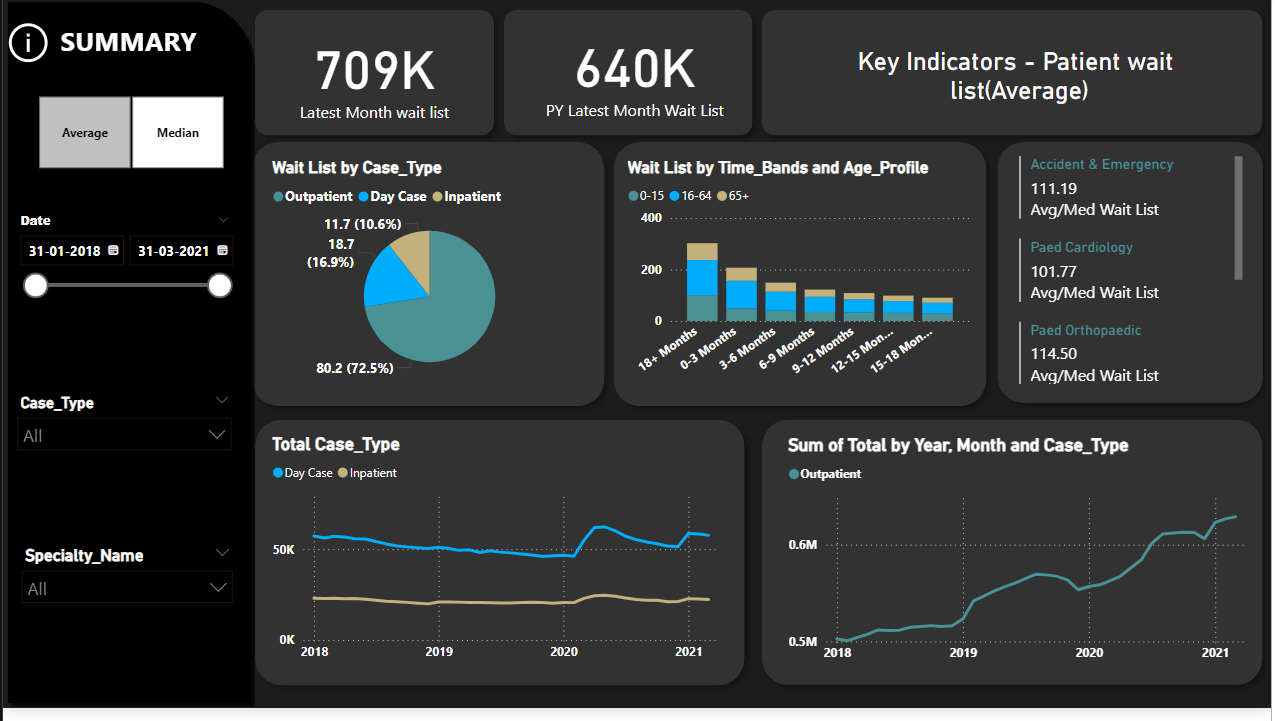

Layout of this report page (visuals, bound fields, positions):
{"tool":"powerbi","page":{"name":"Summary","canvas":[1280,720],"ordinal":0},"visuals":[{"type":"group","id":"g1","title":"Group 1","box":[245,6.4,259.3,144.7],"z":0},{"type":"shape","box":[757.1,419.9,523.3,286.3],"z":0,"group":"g14"},{"type":"group","id":"g2","title":"Group 2","box":[496.3,6.4,268.8,144.7],"z":1000},{"type":"shape","box":[994.1,140,286.3,281.5],"z":1000,"group":"g12"},{"type":"group","id":"g3","title":"Group 3","box":[756.7,6.4,523.3,144.7],"z":2000},{"type":"shape","box":[607.6,140,394.5,284.7],"z":2000,"group":"g11"},{"type":"group","id":"g4","title":"Group 4","box":[241.8,140,373.8,284.7],"z":3000},{"type":"shape","box":[245,419.9,512.2,286.3],"z":3000,"group":"g13"},{"type":"shape","box":[241.8,140,373.8,284.7],"z":4000,"group":"g10"},{"type":"group","id":"g5","title":"Group 5","box":[607.6,140,394.5,284.7],"z":4000},{"type":"shape","box":[756.7,6.4,523.3,144.7],"z":5000,"group":"g3"},{"type":"group","id":"g6","title":"Group 6","box":[994.1,140,286.3,281.5],"z":5000},{"type":"shape","box":[496.3,6.4,268.8,144.7],"z":6000,"group":"g2"},{"type":"group","id":"g7","title":"Group 7","box":[245,419.9,512.2,286.3],"z":6000},{"type":"shape","box":[245,6.4,259.3,144.7],"z":7000,"group":"g1"},{"type":"group","id":"g8","title":"Group 8","box":[757.1,419.9,523.3,286.3],"z":7000},{"type":"shape","box":[0,1.6,255.9,718.4],"z":7500,"group":"g9"},{"type":"group","id":"g9","title":"Group 9","box":[0,1.6,255.9,718.4],"z":8000},{"type":"actionButton","box":[0,22.3,52.5,50.9],"z":9000},{"type":"card","fields":{"Values":["All_Data.Latest Month wait list"]},"box":[267.3,23.9,213.1,109.8],"z":9000,"group":"g1"},{"type":"textbox","box":[52.5,22.3,162.2,57.3],"z":10000},{"type":"card","fields":{"Values":["All_Data.PY Latest Month Wait List"]},"box":[529.7,22.3,214.7,108.2],"z":10000,"group":"g2"},{"type":"slicer","fields":{"Values":["All_Data.Case_Type"]},"box":[5,396.8,235.9,94.4],"z":11000,"group":"g9"},{"type":"card","fields":{"Values":["All_Data.No data left"]},"box":[267.2,429.5,464.5,264],"z":11000},{"type":"slicer","fields":{"Values":["All_Data.Specialty_Name"]},"box":[8.4,550.4,232.5,102.4],"z":12000,"group":"g9"},{"type":"slicer","fields":{"Values":["All_Data.Archive_Date"]},"box":[4.8,213.8,235.4,124.1],"z":13000,"group":"g9"},{"type":"slicer","fields":{"Values":["Calculation Method.Calc Method"]},"box":[10,96,235.9,86.4],"z":14000,"group":"g9"},{"type":"pieChart","title":" Wait List by Case_Type","fields":{"Category":["All_Data.Case_Type"],"Y":["All_Data.Avg/Med Wait List"]},"box":[265.7,163.9,327.7,232.2],"z":15000,"group":"g10"},{"type":"columnChart","title":"Wait List by Time_Bands and Age_Profile","fields":{"Category":["All_Data.Time_Bands"],"Y":["All_Data.Avg/Med Wait List"],"Series":["All_Data.Age_Profile"]},"box":[625.1,163.9,354.7,232.2],"z":16000,"group":"g11"},{"type":"multiRowCard","fields":{"Values":["All_Data.Specialty_Name","All_Data.Avg/Med Wait List"]},"box":[1019.5,157.6,235.4,239.9],"z":17000,"group":"g12"},{"type":"lineChart","title":" Total Case_Type","fields":{"Category":["All_Data.Archive_Date.Variation.Date Hierarchy.Year","All_Data.Archive_Date.Variation.Date Hierarchy.Month"],"Y":["Sum(All_Data.Total)"],"Series":["All_Data.Case_Type"]},"box":[265.7,442.2,464.5,238.6],"z":18000,"group":"g13"},{"type":"lineChart","fields":{"Category":["All_Data.Archive_Date.Variation.Date Hierarchy.Year","All_Data.Archive_Date.Variation.Date Hierarchy.Month"],"Y":["Sum(All_Data.Total)"],"Series":["All_Data.Case_Type"]},"box":[787.3,443.8,475.6,238.6],"z":19000,"group":"g14"},{"type":"card","fields":{"Values":["All_Data.Dynamic Title"]},"box":[786.9,25.5,475.6,108.2],"z":21000,"group":"g3"},{"type":"group","id":"g10","title":"Group 10","box":[241.8,140,373.8,284.7],"z":21010,"group":"g4"},{"type":"group","id":"g11","title":"Group 11","box":[607.6,140,394.5,284.7],"z":21010,"group":"g5"},{"type":"group","id":"g12","title":"Group 12","box":[994.1,140,286.3,281.5],"z":21010,"group":"g6"},{"type":"group","id":"g13","title":"Group 13","box":[245,419.9,512.2,286.3],"z":21010,"group":"g7"},{"type":"group","id":"g14","title":"Group 14","box":[757.1,419.9,523.3,286.3],"z":21010,"group":"g8"}]}

Visuals, with their boxes in screenshot pixels (x1, y1, x2, y2), scaled from the page's 1280x720 canvas onto the 1275x721 screenshot:
"Group 1" group: crop(244, 6, 502, 151)
shape: crop(754, 420, 1274, 707)
"Group 2" group: crop(494, 6, 762, 151)
shape: crop(990, 140, 1274, 422)
"Group 3" group: crop(754, 6, 1274, 151)
shape: crop(605, 140, 998, 425)
"Group 4" group: crop(241, 140, 613, 425)
shape: crop(244, 420, 754, 707)
shape: crop(241, 140, 613, 425)
"Group 5" group: crop(605, 140, 998, 425)
shape: crop(754, 6, 1274, 151)
"Group 6" group: crop(990, 140, 1274, 422)
shape: crop(494, 6, 762, 151)
"Group 7" group: crop(244, 420, 754, 707)
shape: crop(244, 6, 502, 151)
"Group 8" group: crop(754, 420, 1274, 707)
shape: crop(0, 2, 255, 720)
"Group 9" group: crop(0, 2, 255, 720)
actionButton: crop(0, 22, 52, 73)
card - All_Data.Latest Month wait list: crop(266, 24, 479, 134)
textbox: crop(52, 22, 214, 80)
card - All_Data.PY Latest Month Wait List: crop(528, 22, 741, 131)
slicer - All_Data.Case_Type: crop(5, 397, 240, 492)
card - All_Data.No data left: crop(266, 430, 729, 694)
slicer - All_Data.Specialty_Name: crop(8, 551, 240, 654)
slicer - All_Data.Archive_Date: crop(5, 214, 239, 338)
slicer - Calculation Method.Calc Method: crop(10, 96, 245, 183)
" Wait List by Case_Type" pieChart: crop(265, 164, 591, 397)
"Wait List by Time_Bands and Age_Profile" columnChart: crop(623, 164, 976, 397)
multiRowCard - All_Data.Specialty_Name x All_Data.Avg/Med Wait List: crop(1016, 158, 1250, 398)
" Total Case_Type" lineChart: crop(265, 443, 727, 682)
lineChart - All_Data.Archive_Date.Variation.Date Hierarchy.Year x All_Data.Archive_Date.Variation.Date Hierarchy.Month: crop(784, 444, 1258, 683)
card - All_Data.Dynamic Title: crop(784, 26, 1258, 134)
"Group 10" group: crop(241, 140, 613, 425)
"Group 11" group: crop(605, 140, 998, 425)
"Group 12" group: crop(990, 140, 1274, 422)
"Group 13" group: crop(244, 420, 754, 707)
"Group 14" group: crop(754, 420, 1274, 707)
